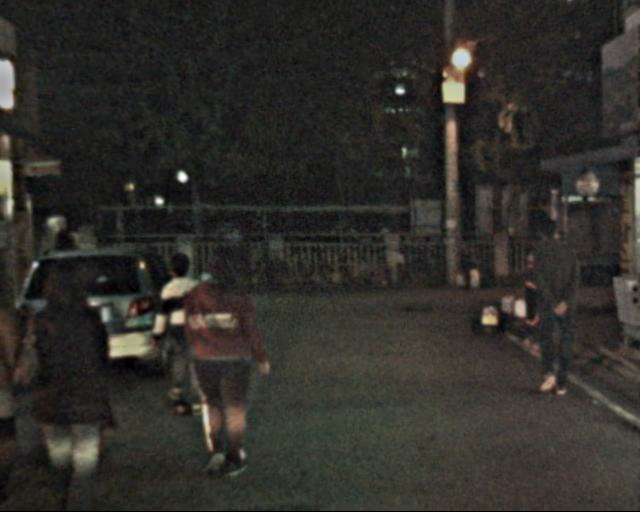person: (25, 248, 128, 509), (168, 244, 261, 485), (515, 208, 585, 408), (141, 242, 207, 425)
